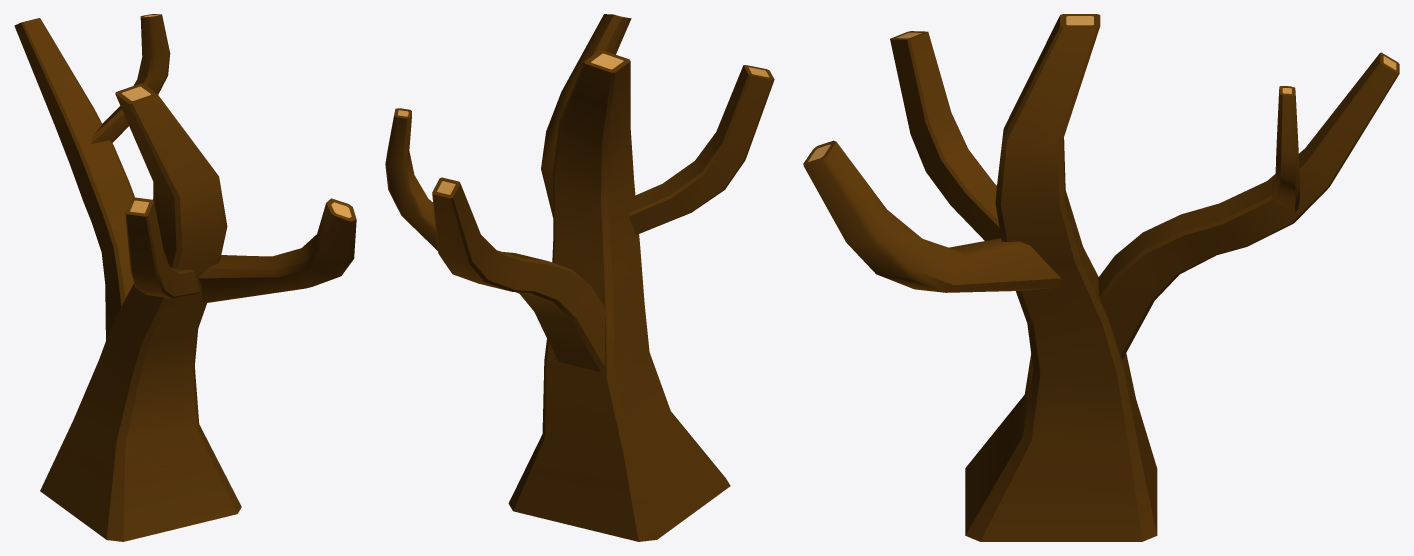
The model's file is Tree_4_3.obj.
3 renders of one model, left to right at view 1: azimuth 30°, elevation 25°; view 2: azimuth 150°, elevation 25°; view 3: azimuth 270°, elevation 25°, orthographic. The views are drawn at different scales.
Visible parts, largest first — view 1: Tree_4_3; view 2: Tree_4_3; view 3: Tree_4_3.
Part boxes in pixels (x1=…): Tree_4_3: x1=14, y1=14, x2=356, y2=541; Tree_4_3: x1=385, y1=14, x2=774, y2=541; Tree_4_3: x1=803, y1=14, x2=1399, y2=541.
Size of the model in its own units: 1.53 by 2.81 by 3.13.
